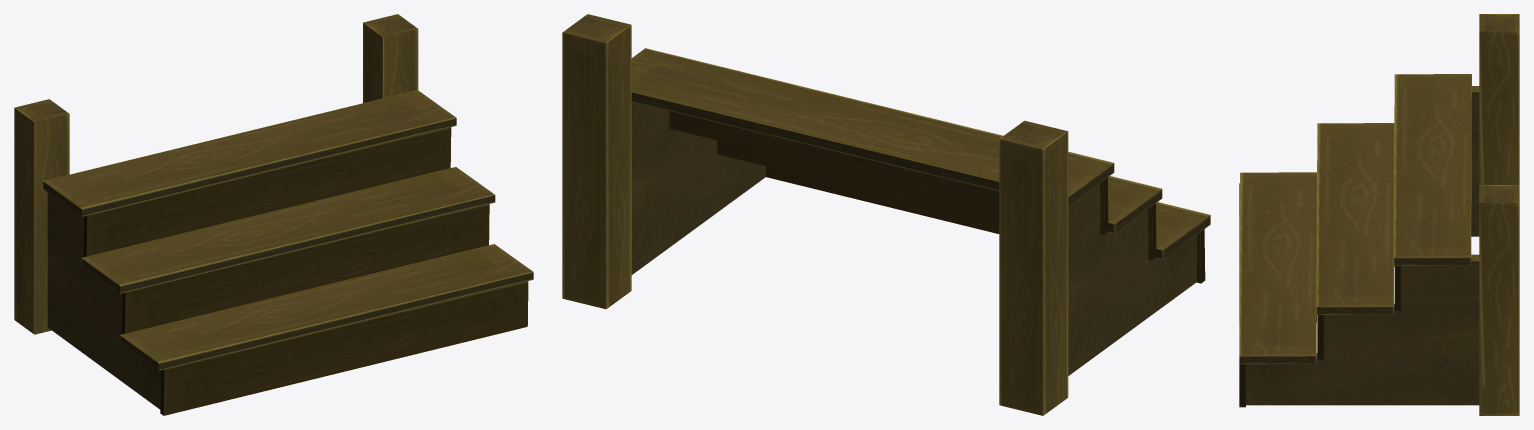
The model's file is steps.glb.
The picture shows the model from 3 angles, left to right: view 1: azimuth 30°, elevation 25°; view 2: azimuth 150°, elevation 25°; view 3: azimuth 270°, elevation 25°; orthographic projection. The views are drawn at different scales.
Parts seen in each view (by area): view 1: fence_p1.003; view 2: fence_p1.003; view 3: fence_p1.003.
Boxes of the visible parts, x1,y1,x2,y2 form: fence_p1.003: (14,14,533,415); fence_p1.003: (562,14,1210,415); fence_p1.003: (1239,14,1519,415).
Bounding box in the file's own units: 6.6 × 3.49 × 4.15.
Materials: 2 (2 with a texture image).
